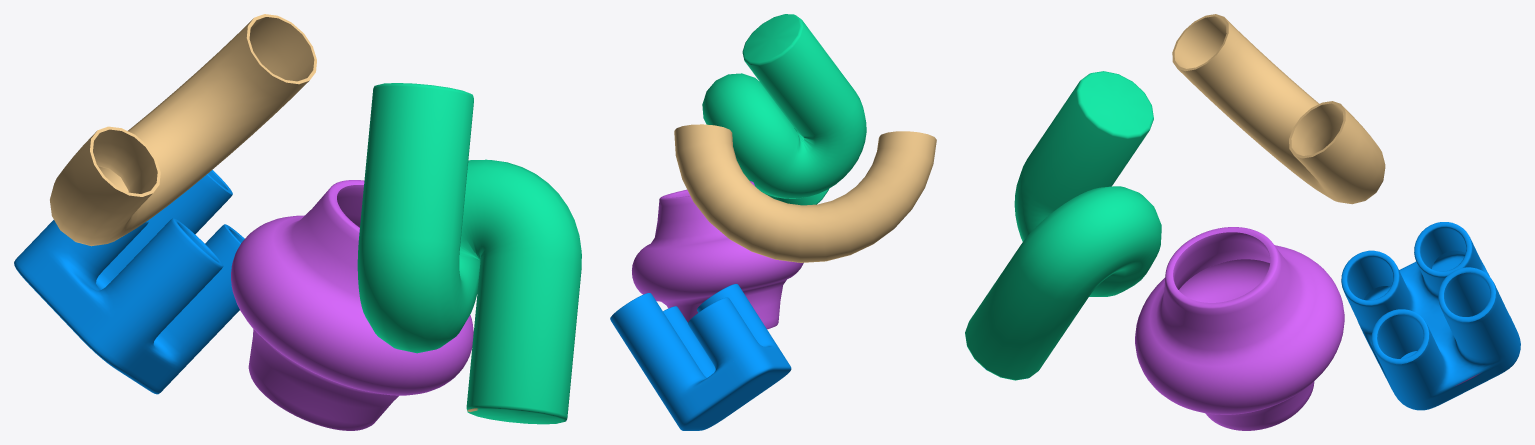
The picture shows the model from 3 angles, left to right: view 1: azimuth 30°, elevation 25°; view 2: azimuth 150°, elevation 25°; view 3: azimuth 270°, elevation 25°; orthographic projection. The views are drawn at different scales.
Parts seen in each view (by area): view 1: Extruded_Circle, Vase, Tubes, Torus; view 2: Extruded_Circle, Torus, Tubes, Vase; view 3: Extruded_Circle, Vase, Tubes, Torus.
Part boxes in pixels (<box>): Extruded_Circle: <box>357,83,581,424</box>; Vase: <box>231,180,473,430</box>; Tubes: <box>14,170,244,394</box>; Torus: <box>50,14,316,246</box>; Extruded_Circle: <box>702,14,866,205</box>; Torus: <box>674,124,936,262</box>; Tubes: <box>610,284,791,430</box>; Vase: <box>632,181,803,329</box>; Extruded_Circle: <box>965,71,1161,380</box>; Vase: <box>1135,227,1344,430</box>; Tubes: <box>1341,222,1520,410</box>; Torus: <box>1172,14,1385,204</box>.
Size of the model in its own units: 9.24 by 9.41 by 13.09.
1 material, 1 textured.
